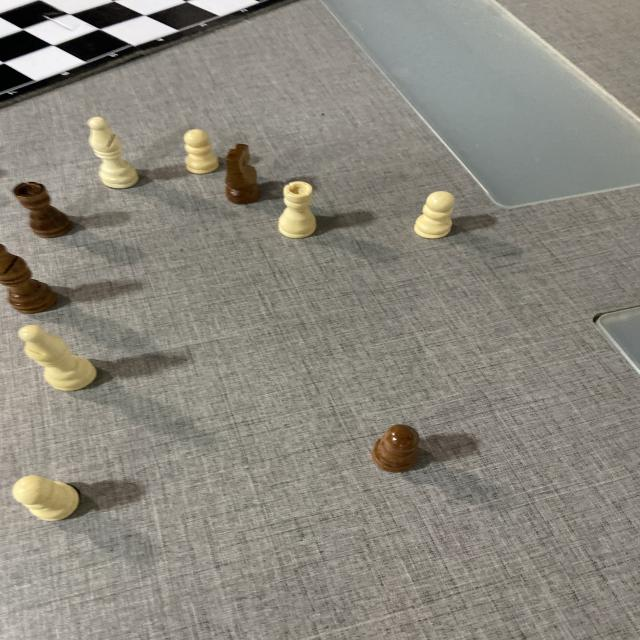Black-Bishop: (0, 245, 59, 316)
Black-Knight: (223, 142, 265, 205)
Black-Pawn: (372, 424, 424, 474)
Black-Rook: (13, 181, 75, 239)
White-Bishop: (16, 324, 98, 390), (85, 116, 141, 190)
White-Pawn: (10, 473, 83, 524), (413, 190, 457, 240), (180, 128, 220, 176)
White-Rook: (275, 181, 319, 240)
